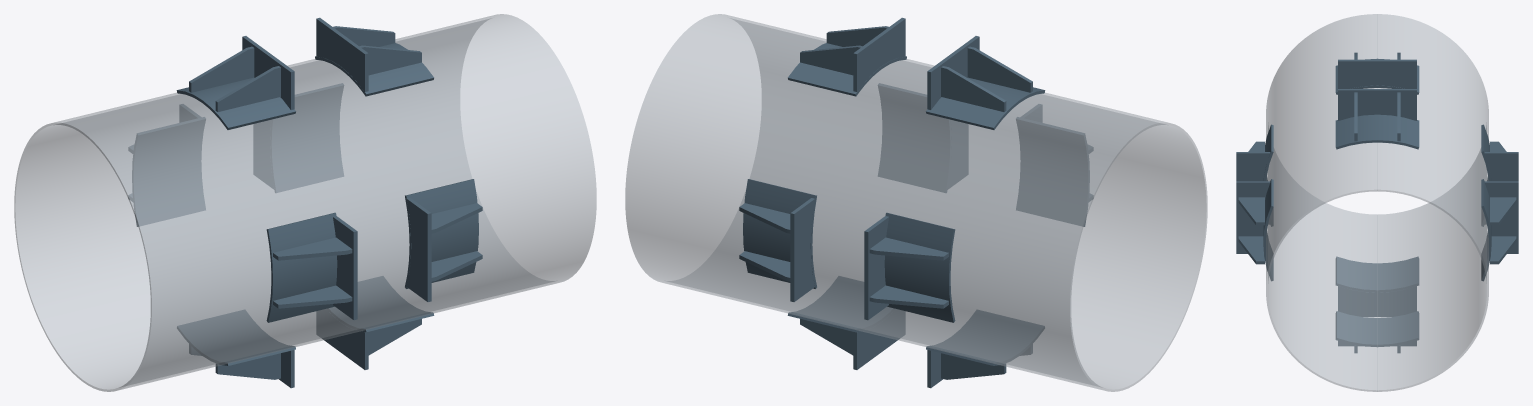
Rendered from TS-664.00.00-06-opora-dn1020-ris1.glb.
3 views of the same model, side by side, from view 1: azimuth 30°, elevation 25°; view 2: azimuth 150°, elevation 25°; view 3: azimuth 270°, elevation 25° (orthographic). The views are drawn at different scales.
Parts seen in each view (by area): view 1: truba, det_32, det_28, det_16, det_24, det_12, det_20, det_8, det_9, det_1, det_13, det_17 (+13 smaller); view 2: truba, det_16, det_12, det_32, det_24, det_28, det_20, det_8, det_25, det_1, det_29, det_17 (+13 smaller); view 3: truba, det_24, det_20, det_4, det_5, det_1, det_21, det_9, det_25, det_13, det_29, det_12 (+8 smaller).
Boxes of the visible parts, x1=… form: truba: x1=14, y1=14, x2=596, y2=391; det_32: x1=132, y1=117, x2=205, y2=226; det_28: x1=270, y1=83, x2=343, y2=192; det_16: x1=266, y1=212, x2=337, y2=322; det_24: x1=177, y1=310, x2=295, y2=365; det_12: x1=405, y1=179, x2=478, y2=288; det_20: x1=327, y1=276, x2=434, y2=332; det_8: x1=176, y1=77, x2=295, y2=129; det_9: x1=407, y1=198, x2=431, y2=301; det_1: x1=316, y1=17, x2=368, y2=91; det_13: x1=333, y1=216, x2=357, y2=320; det_17: x1=316, y1=309, x2=368, y2=369; truba: x1=625, y1=14, x2=1207, y2=391; det_16: x1=1016, y1=117, x2=1089, y2=226; det_12: x1=878, y1=83, x2=951, y2=192; det_32: x1=884, y1=212, x2=955, y2=322; det_24: x1=926, y1=310, x2=1044, y2=365; det_28: x1=743, y1=179, x2=816, y2=288; det_20: x1=787, y1=276, x2=894, y2=332; det_8: x1=926, y1=77, x2=1045, y2=129; det_25: x1=790, y1=198, x2=814, y2=301; det_1: x1=853, y1=17, x2=905, y2=91; det_29: x1=864, y1=216, x2=888, y2=320; det_17: x1=853, y1=309, x2=905, y2=369; truba: x1=1266, y1=14, x2=1488, y2=391; det_24: x1=1335, y1=256, x2=1419, y2=292; det_20: x1=1335, y1=311, x2=1419, y2=346; det_4: x1=1335, y1=114, x2=1419, y2=149; det_5: x1=1338, y1=59, x2=1416, y2=88; det_1: x1=1338, y1=89, x2=1416, y2=120; det_21: x1=1338, y1=286, x2=1416, y2=316; det_9: x1=1236, y1=181, x2=1270, y2=253; det_25: x1=1484, y1=181, x2=1518, y2=253; det_13: x1=1236, y1=152, x2=1270, y2=224; det_29: x1=1484, y1=152, x2=1518, y2=224; det_12: x1=1263, y1=179, x2=1273, y2=281.
Size of the model in its own units: 1900 by 1290 by 1290.
